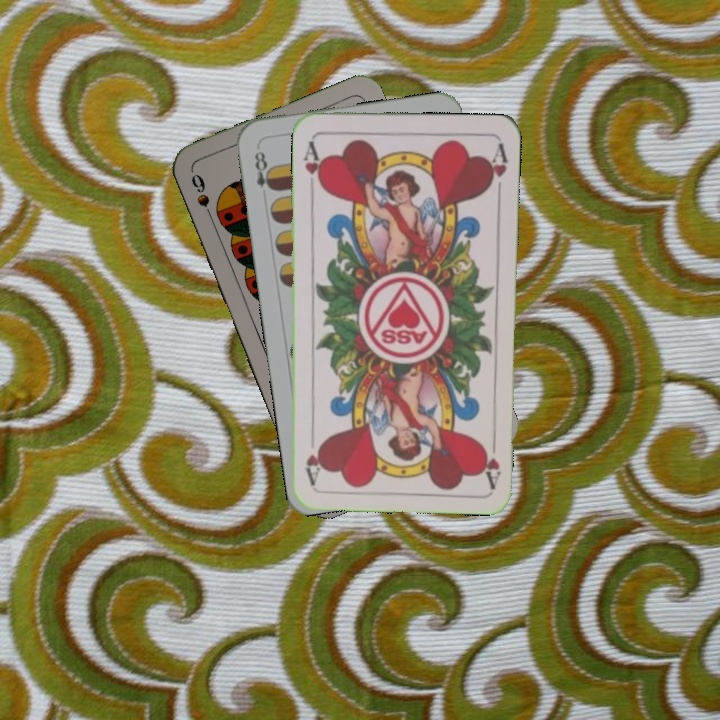E8: (251, 147, 277, 193)
HA: (477, 429, 503, 489), (300, 137, 326, 194)
S9: (187, 169, 217, 225)
